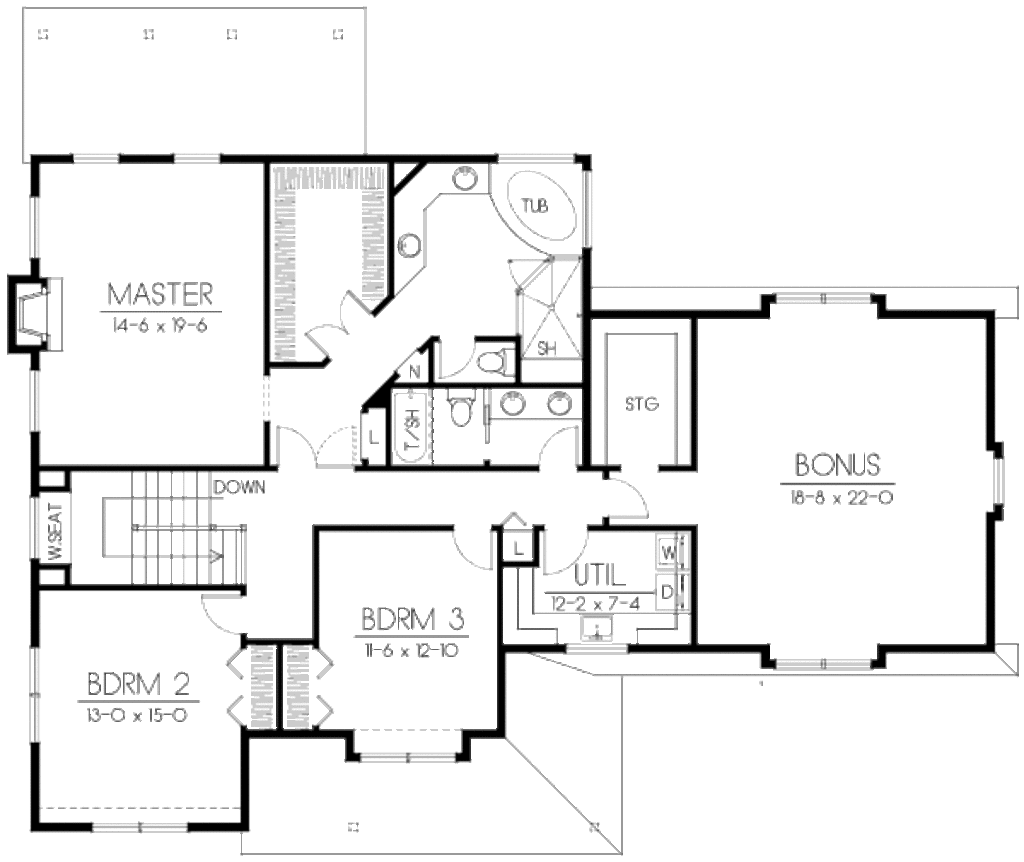door: (302, 290, 382, 360), (267, 419, 361, 469), (536, 522, 592, 579), (194, 590, 257, 637), (452, 522, 500, 580), (605, 476, 660, 521), (535, 421, 586, 469), (436, 335, 478, 380)
large_sink: (440, 385, 480, 434), (480, 338, 513, 375)
small_sink: (486, 384, 588, 417), (426, 156, 487, 197), (392, 221, 430, 274)
stairs: (68, 465, 245, 578)
tub: (505, 157, 586, 244), (391, 388, 437, 467)
window: (757, 648, 878, 677), (22, 642, 56, 741), (350, 744, 463, 772), (770, 284, 877, 309), (91, 814, 188, 839), (981, 447, 1011, 513), (19, 366, 44, 441), (23, 190, 44, 263), (570, 634, 631, 657), (65, 144, 119, 168), (165, 149, 223, 171)
